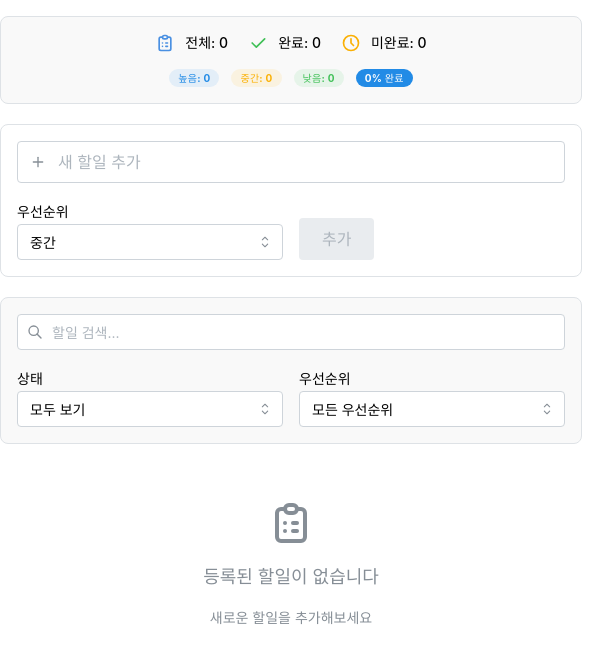
Test: 스토리지 통합 테스트 › 여러 Todo의 상태 변경이 올바르게 저장되어야 함
The image size is (599, 646).
Type "할일 1" into the field with placeholder "새 할일 추가" at [291, 162], box 17,141 -> 565,183
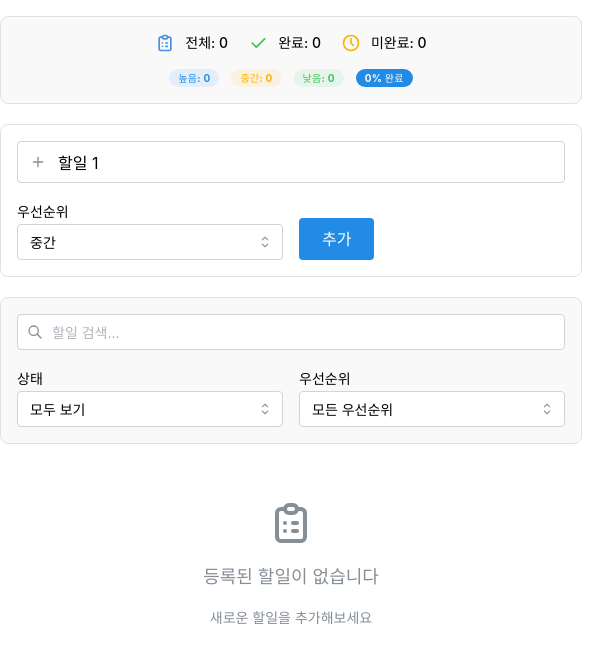
Click the button "추가" at [337, 239], box 299,218 -> 374,260
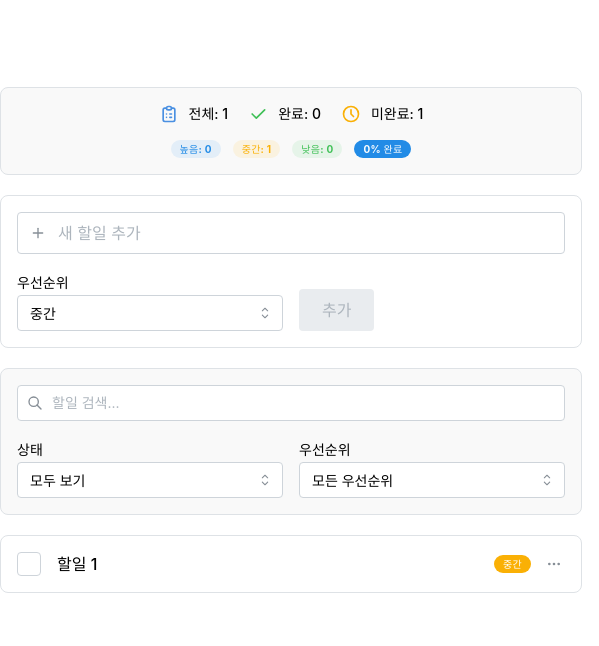
Type "할일 2" into the field with placeholder "새 할일 추가" at [291, 233], box 17,212 -> 565,254
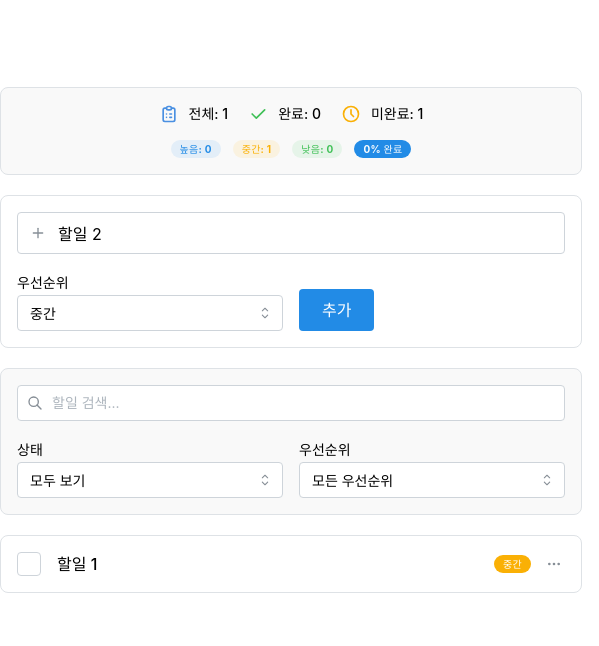
Click the button "추가" at [337, 310], box 299,289 -> 374,331
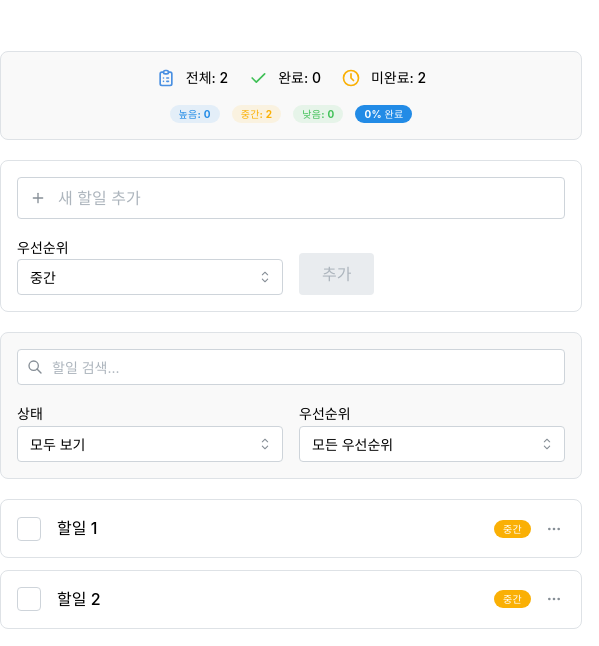
Expected: the text "할일 1" is shown, 57,518 -> 97,538
Expected: the text "할일 2" is shown, 57,589 -> 101,609
# 첫 번째 할일 완료 처리
Click the checkbox named "할일 1 완료 상태 토글" at [29, 528], box 17,516 -> 41,540
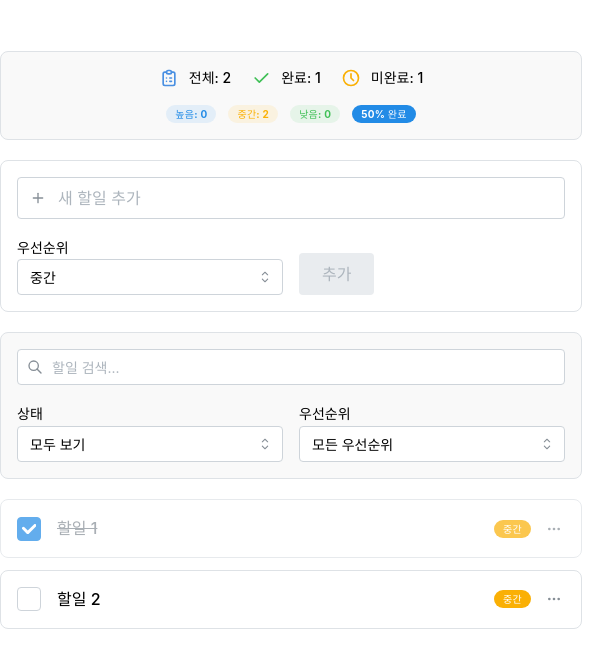
Expected: the text "완료: 1" is shown, 281,68 -> 321,89
Expected: the text "미완료: 1" is shown, 371,68 -> 423,89
